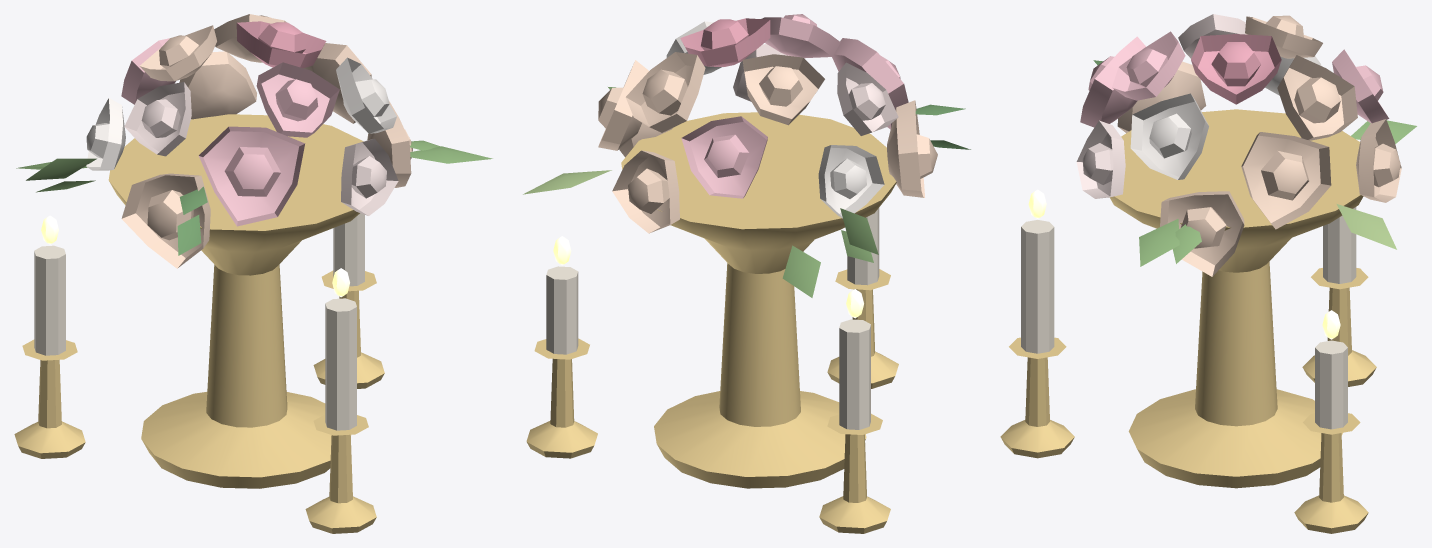
The model's file is centerpiece-flowers.glb.
The picture shows the model from 3 angles, left to right: view 1: azimuth 30°, elevation 25°; view 2: azimuth 150°, elevation 25°; view 3: azimuth 270°, elevation 25°; orthographic projection.
Parts seen in each view (by area): view 1: centerpiece-flowers; view 2: centerpiece-flowers; view 3: centerpiece-flowers.
Boxes of the visible parts, x1,y1,x2,y2 form: centerpiece-flowers: (14, 14, 492, 533); centerpiece-flowers: (523, 14, 970, 533); centerpiece-flowers: (1000, 14, 1416, 533).
Size of the model in its own units: 0.5305 by 0.5585 by 0.5039.
